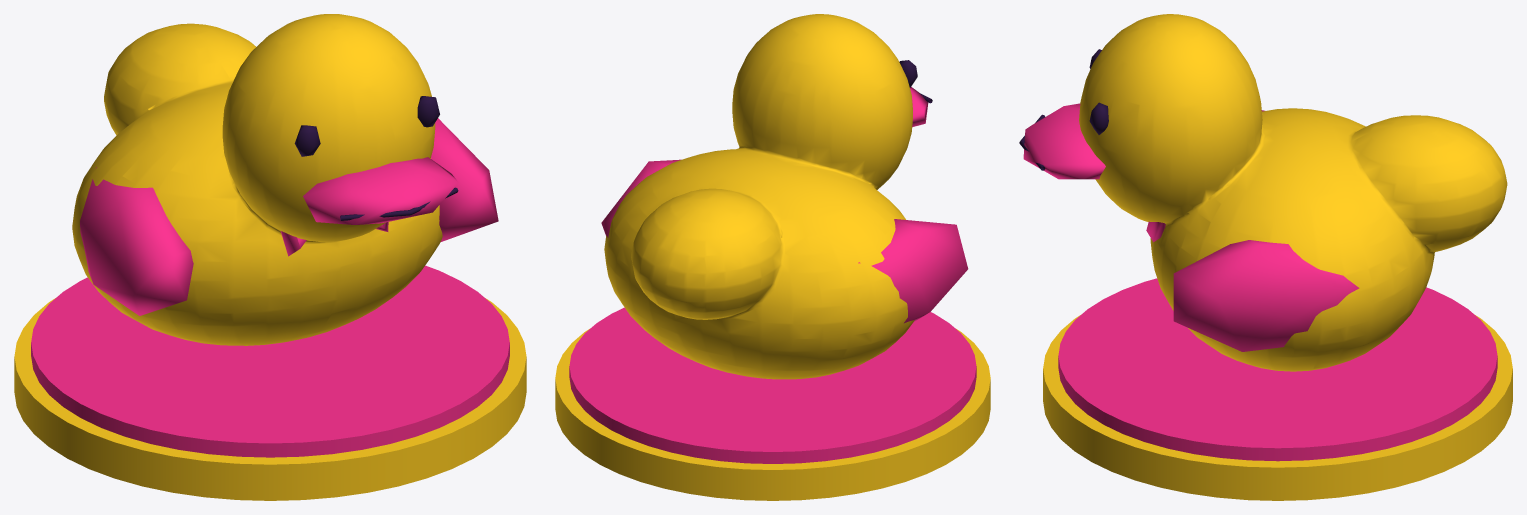
File: desk.toy.rubber-duck.glb
The picture shows the model from 3 angles, left to right: view 1: azimuth 30°, elevation 25°; view 2: azimuth 150°, elevation 25°; view 3: azimuth 270°, elevation 25°; orthographic projection. The views are drawn at different scales.
Parts seen in each view (by area): view 1: duck_body, stand_trim, stand_base, duck_wing, duck_bill, duck_wing.001, duck_eye, duck_eye.001; view 2: duck_body, stand_trim, stand_base, duck_wing, duck_wing.001, duck_bill; view 3: duck_body, stand_trim, stand_base, duck_wing.001, duck_bill.
Part boxes in pixels (<box>): duck_body: <box>72,14,442,345</box>; stand_trim: <box>31,265,509,457</box>; stand_base: <box>14,298,526,500</box>; duck_wing: <box>80,167,193,315</box>; duck_bill: <box>303,157,458,224</box>; duck_wing.001: <box>431,118,498,241</box>; duck_eye: <box>294,125,320,156</box>; duck_eye.001: <box>417,96,439,127</box>; duck_body: <box>604,14,914,379</box>; stand_trim: <box>569,307,976,463</box>; stand_base: <box>555,329,990,500</box>; duck_wing: <box>858,219,968,323</box>; duck_wing.001: <box>601,159,681,237</box>; duck_bill: <box>910,87,928,126</box>; duck_body: <box>1079,14,1507,371</box>; stand_trim: <box>1058,278,1497,461</box>; stand_base: <box>1043,314,1512,500</box>; duck_wing.001: <box>1173,240,1359,351</box>; duck_bill: <box>1023,103,1105,179</box>.
Size of the model in its own units: 0.4567 by 0.4067 by 0.48.
